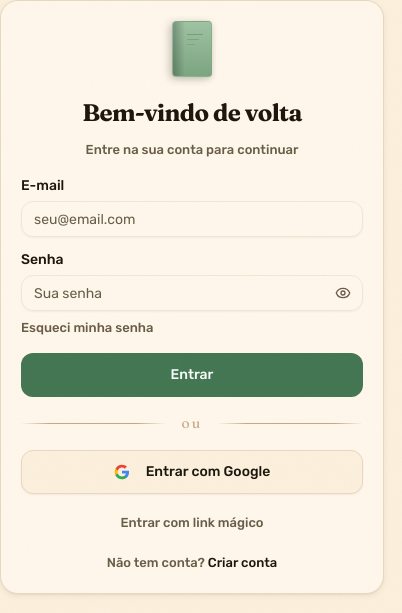
it: LoginPage › switches to magic link mode and back
This screenshot has width=402, height=613.
Click the button "Entrar com link mágico". click: point(192, 524)
box: [21,514,363,533]
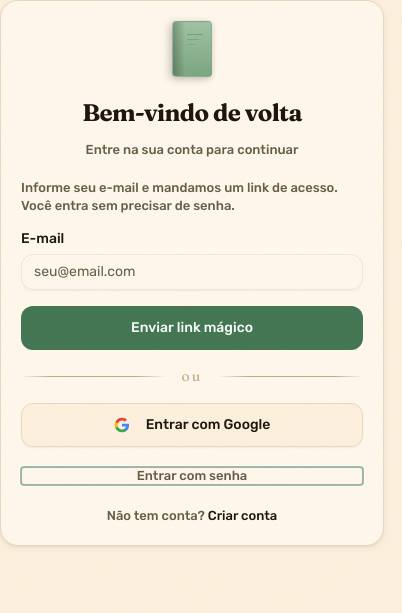
Result: the button "Enviar link mágico" is shown at [21,306,363,350]
Click the button "Entrar com senha". click: point(192, 476)
box: [21,467,363,485]
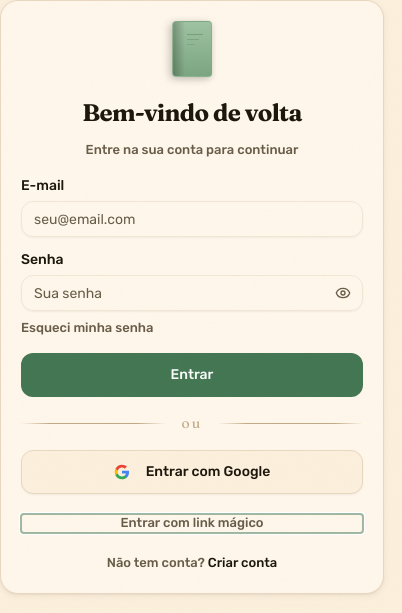
Result: the password field labelled "Senha" is shown at [21,275,363,311]
Result: the button "Entrar" is shown at [21,353,363,397]
